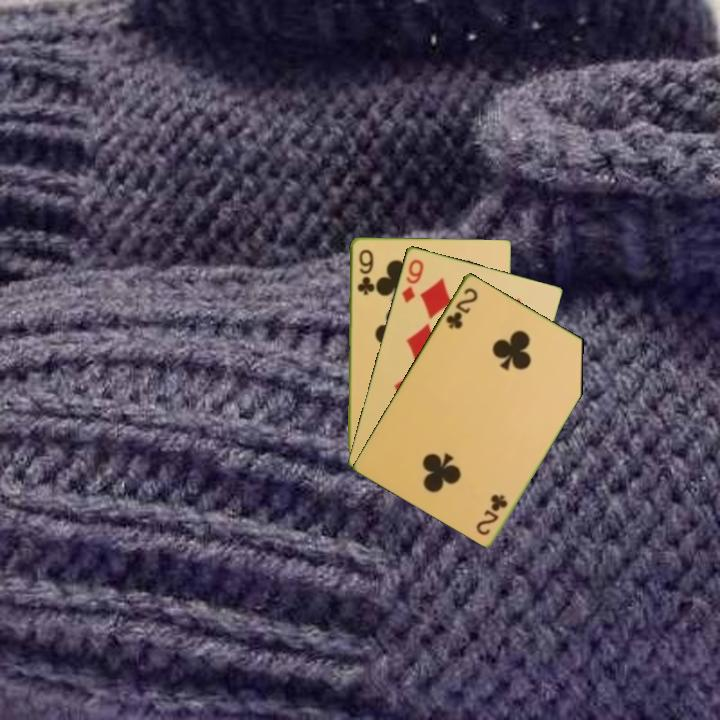2c: (442, 283, 481, 332), (473, 490, 510, 538)
9c: (353, 245, 375, 298)
9d: (398, 255, 426, 305)
